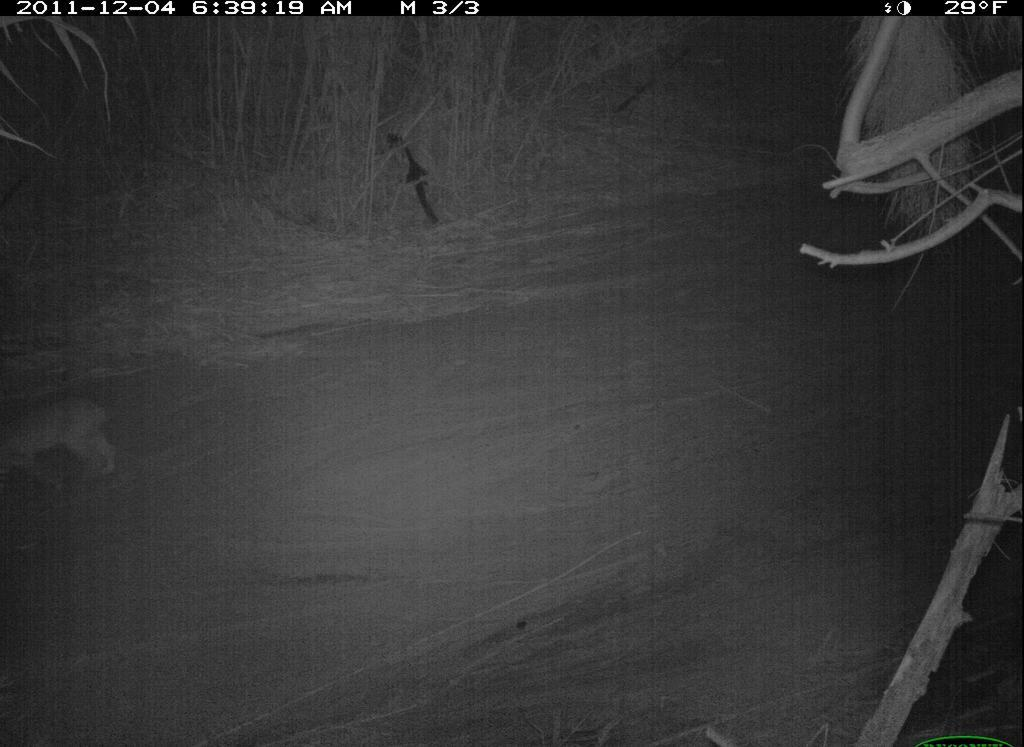bobcat: (1, 391, 130, 496)
